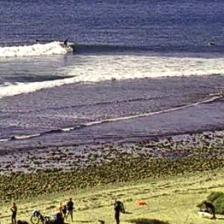surfer: (63, 38, 68, 47), (35, 39, 43, 43), (209, 43, 215, 45)
